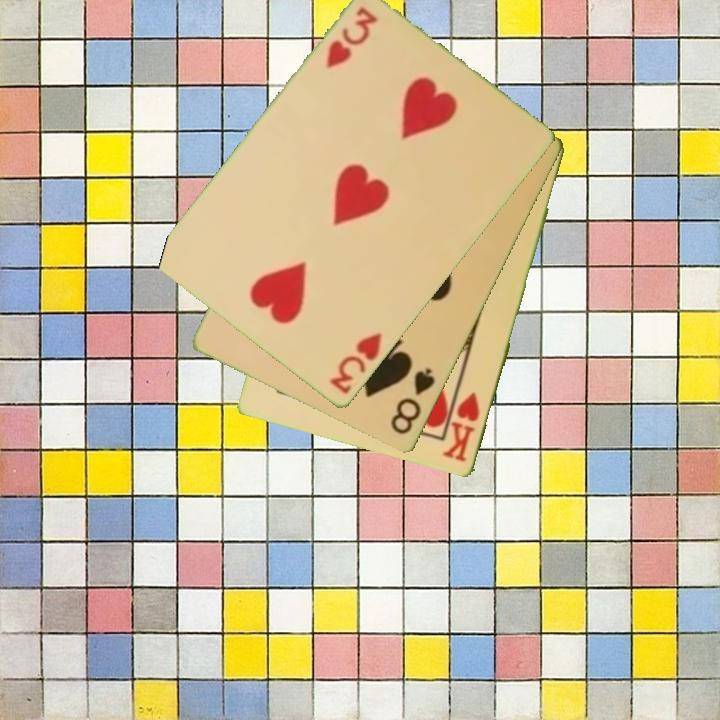3h: (326, 329, 385, 398), (322, 4, 381, 72)
8s: (387, 365, 438, 438)
Kh: (440, 389, 483, 466)
